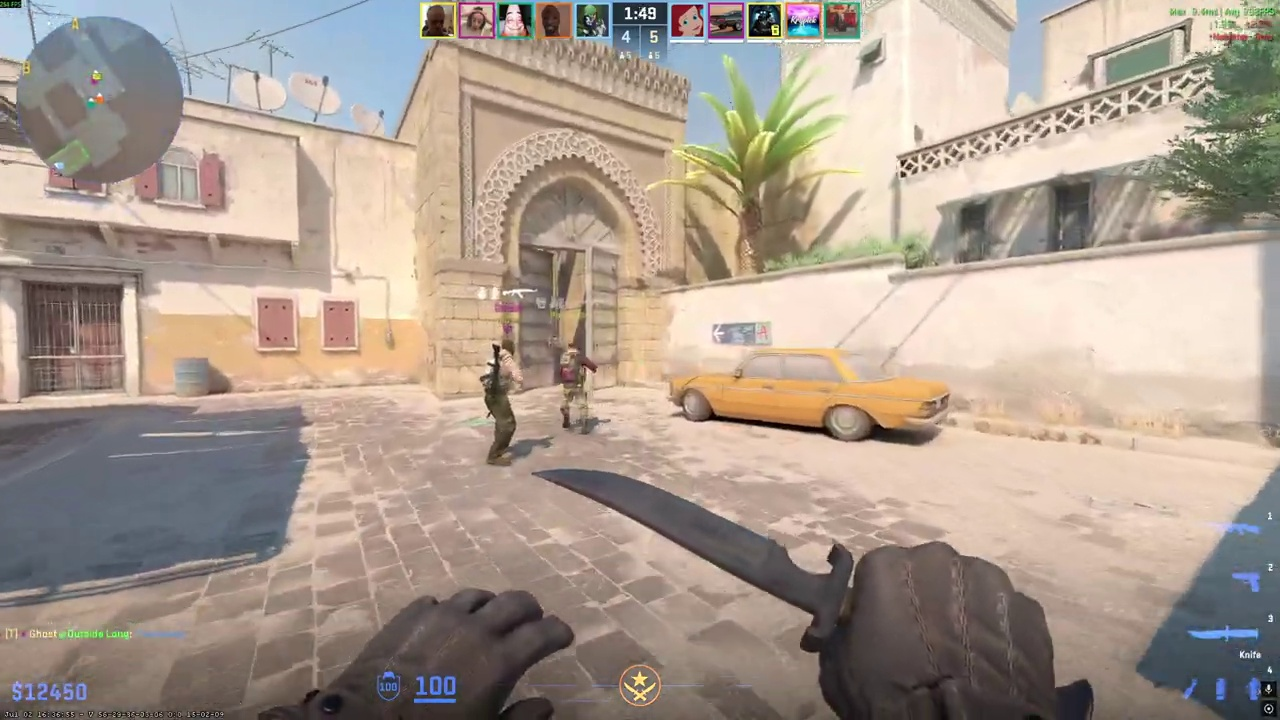Terrorist: (482, 338, 525, 465), (560, 343, 596, 434)
